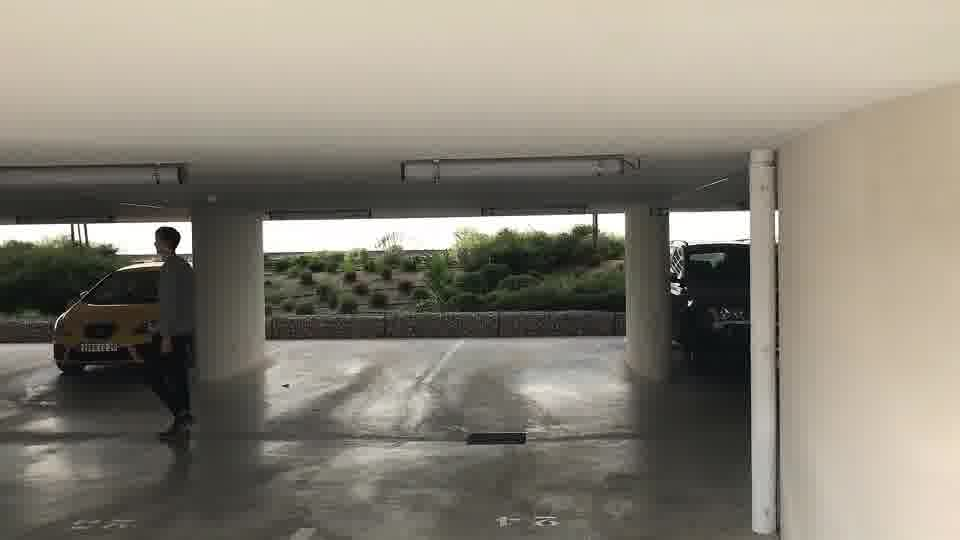jugador: (123, 225, 211, 447)
